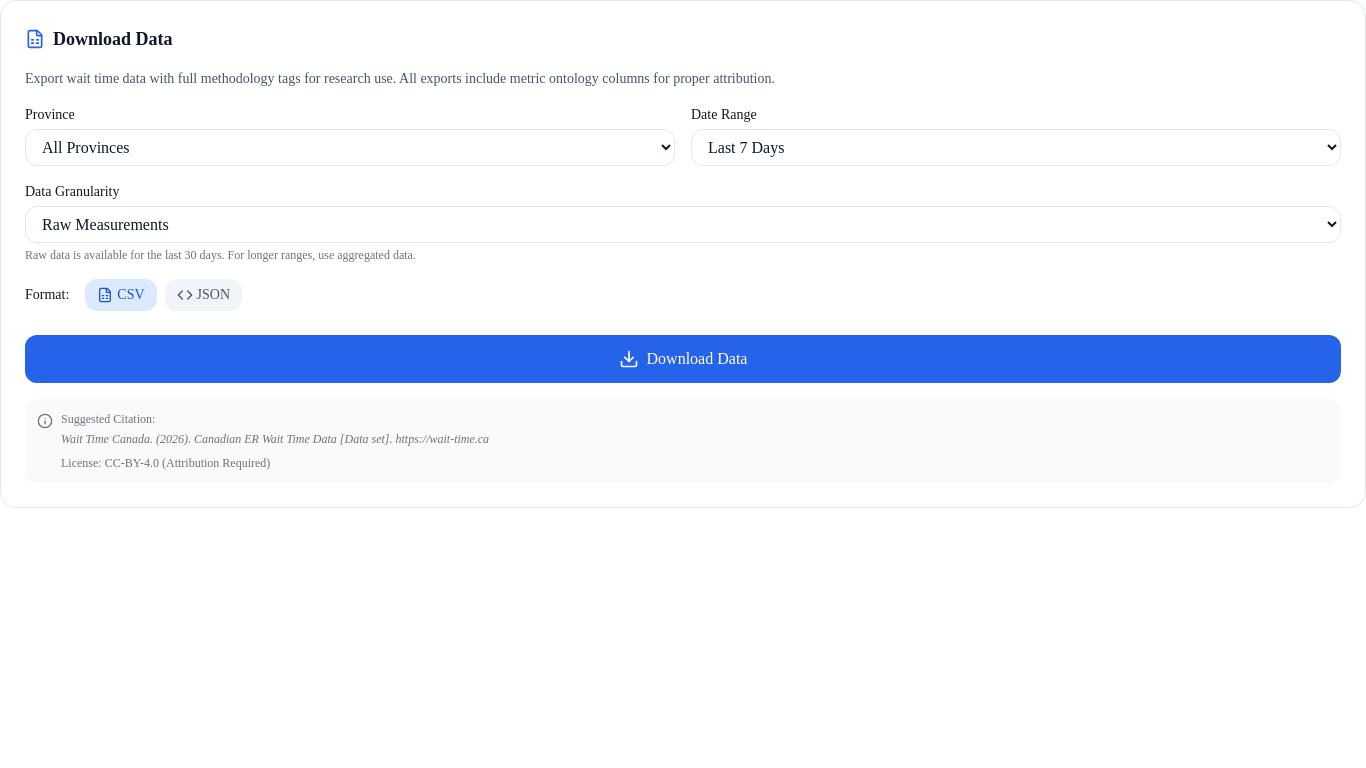
it: DataExport › download functionality › uses JSON page filenames when JSON is selected
This screenshot has width=1366, height=768.
Click the button "JSON": click(203, 295) [165,279,242,311]
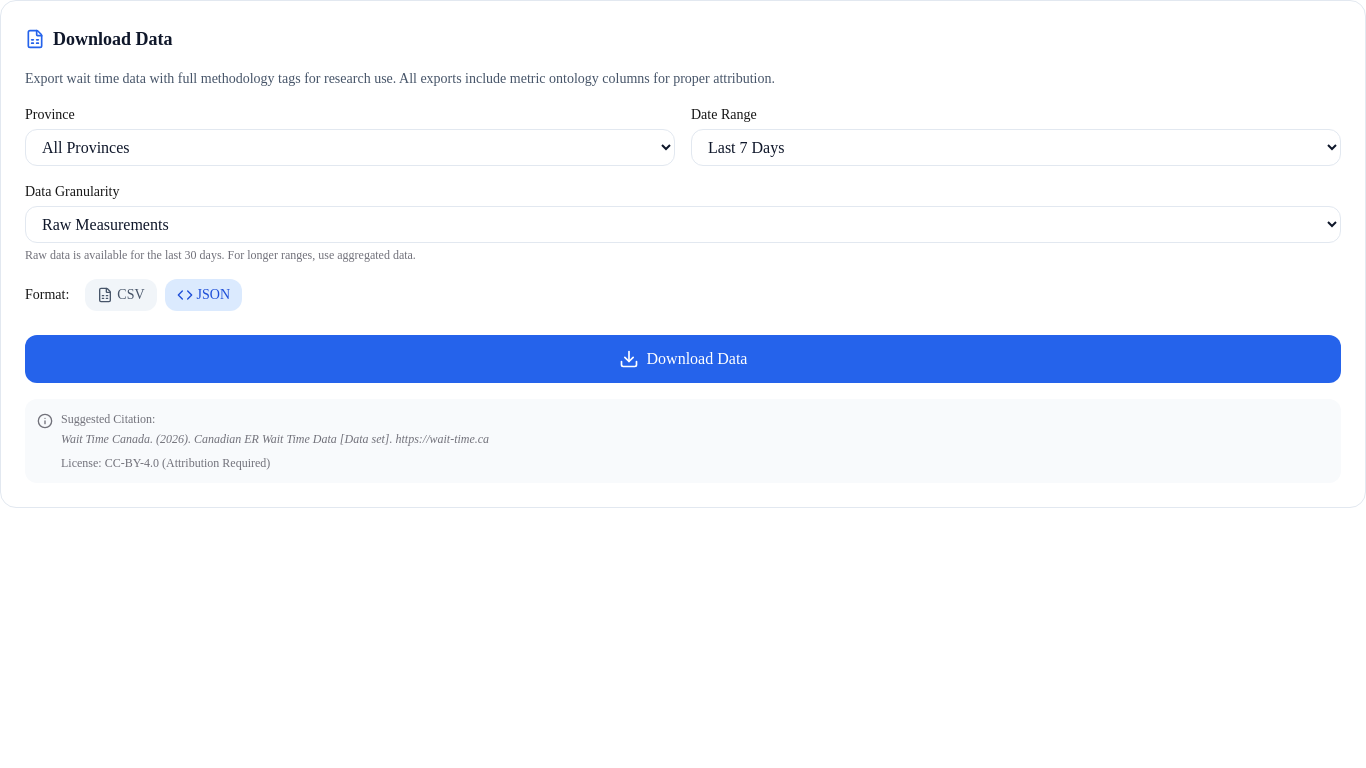
Click the button "Download Data": click(683, 359) [25,335,1341,383]
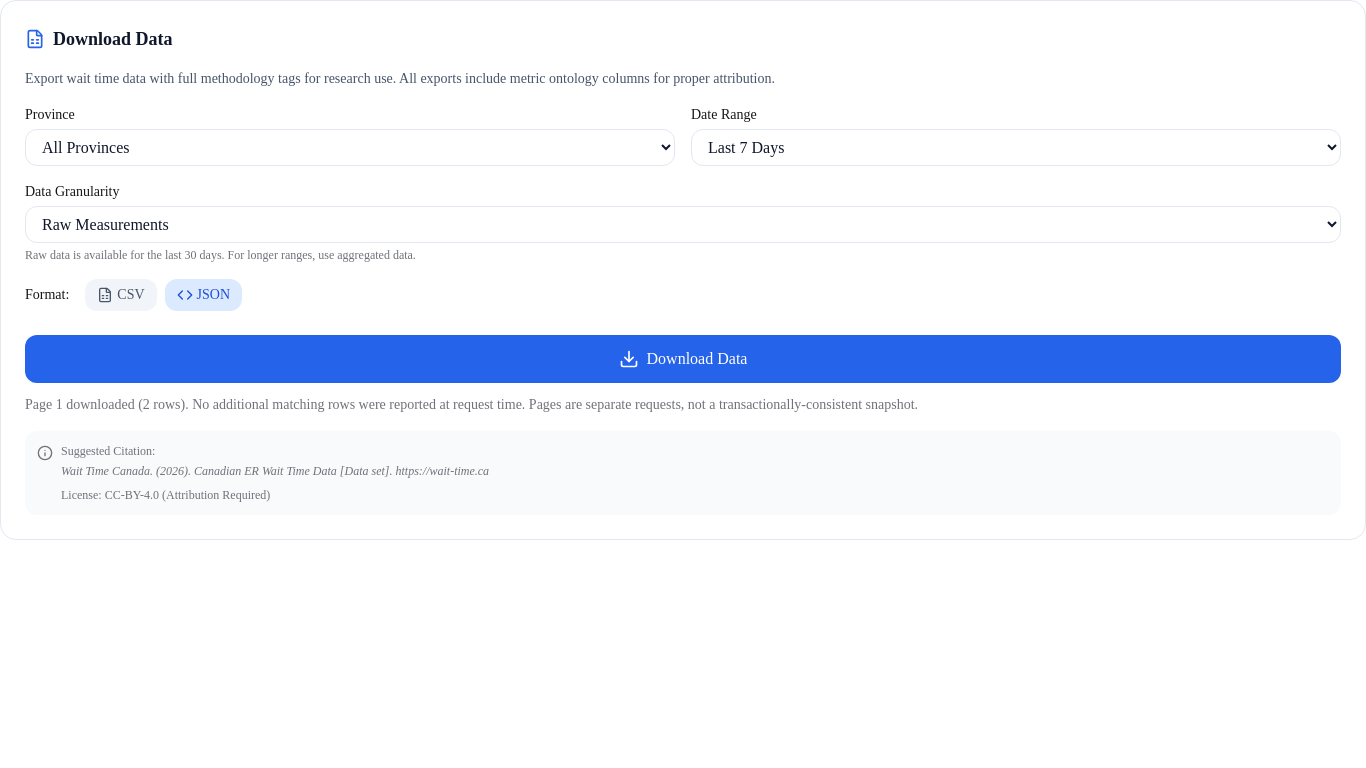
Now the message shows "Page 1 downloaded", box [25,397,525,412]
